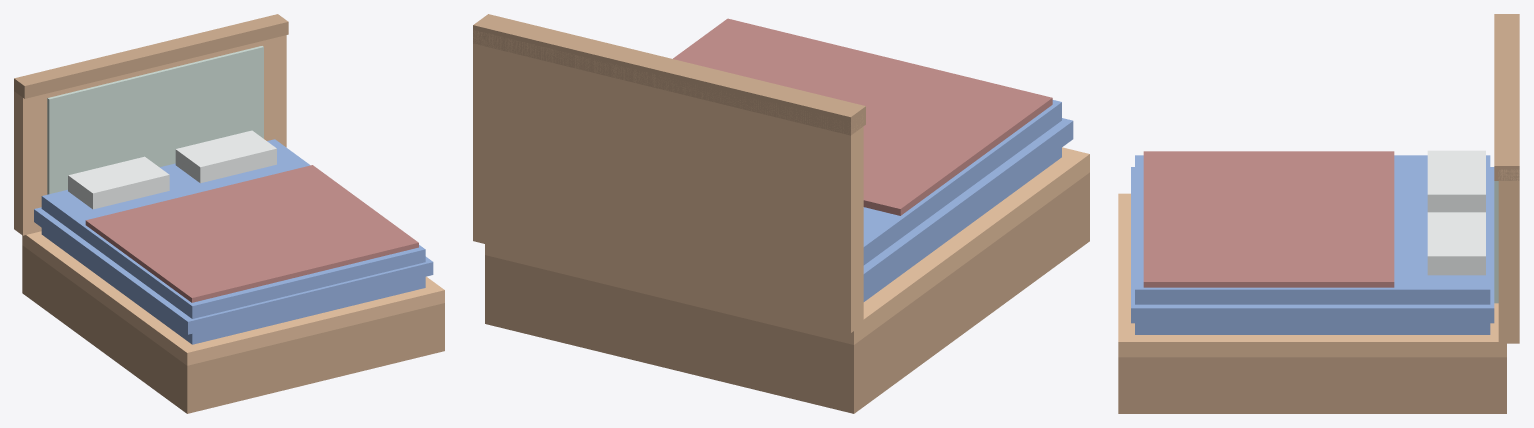
Rendered from bedWaterbed.glb.
3 views of the same model, side by side, from view 1: azimuth 30°, elevation 25°; view 2: azimuth 150°, elevation 25°; view 3: azimuth 270°, elevation 25° (orthographic). The views are drawn at different scales.
Visible parts, largest first — view 1: bedWaterbed; view 2: bedWaterbed; view 3: bedWaterbed.
Boxes of the visible parts, x1,y1,x2,y2 form: bedWaterbed: (14,14,444,413); bedWaterbed: (473,14,1089,413); bedWaterbed: (1118,14,1519,413).
Bounding box in the file's own units: 0.86 × 0.66 × 0.96.
